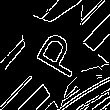P_NW: (22, 22, 84, 80)
